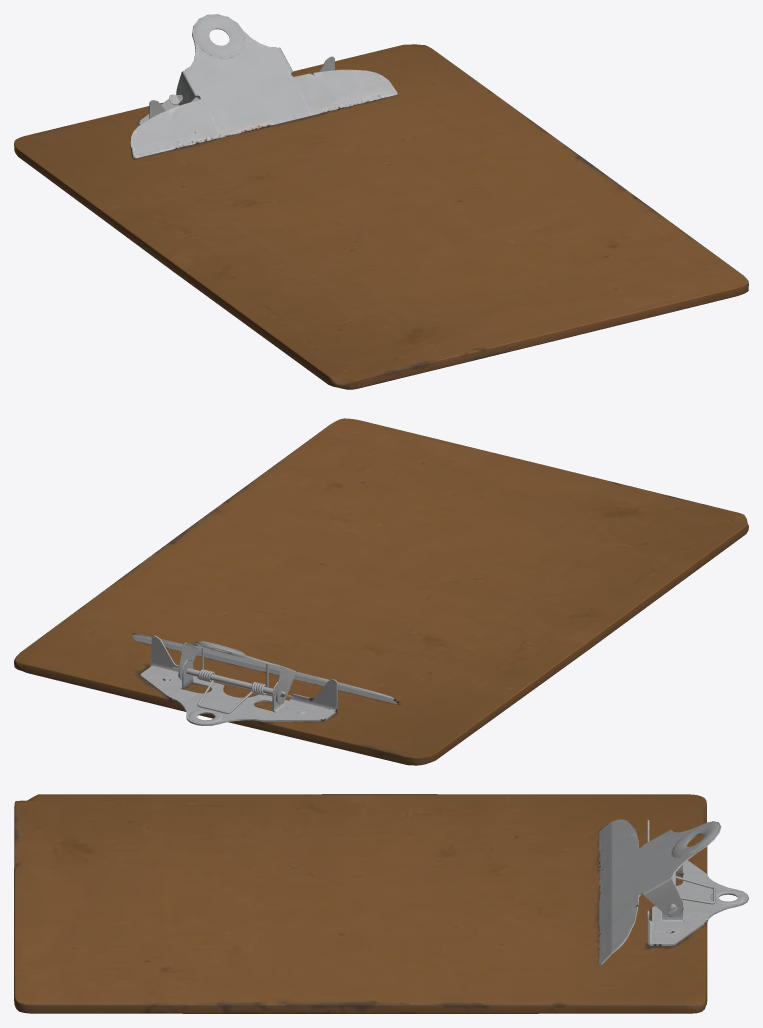
File: clipboard.glb
3 views of the same model, one above another, from view 1: azimuth 30°, elevation 25°; view 2: azimuth 150°, elevation 25°; view 3: azimuth 270°, elevation 25° (orthographic). The views are drawn at different scales.
Visible parts, largest first — view 1: clipboard; view 2: clipboard; view 3: clipboard.
Boxes of the visible parts, left/top/right/bottom form: clipboard: left=14, top=14, right=748, bottom=389; clipboard: left=14, top=418, right=748, bottom=765; clipboard: left=14, top=794, right=748, bottom=1013.
Bounding box in the file's own units: 0.2286 × 0.042 × 0.3366.
Materials: 1 (1 with a texture image).
